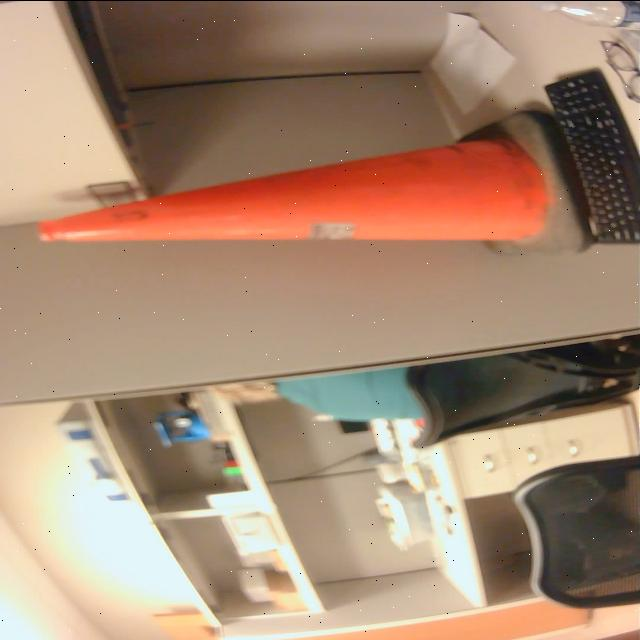traffic cone: (33, 107, 600, 264)
